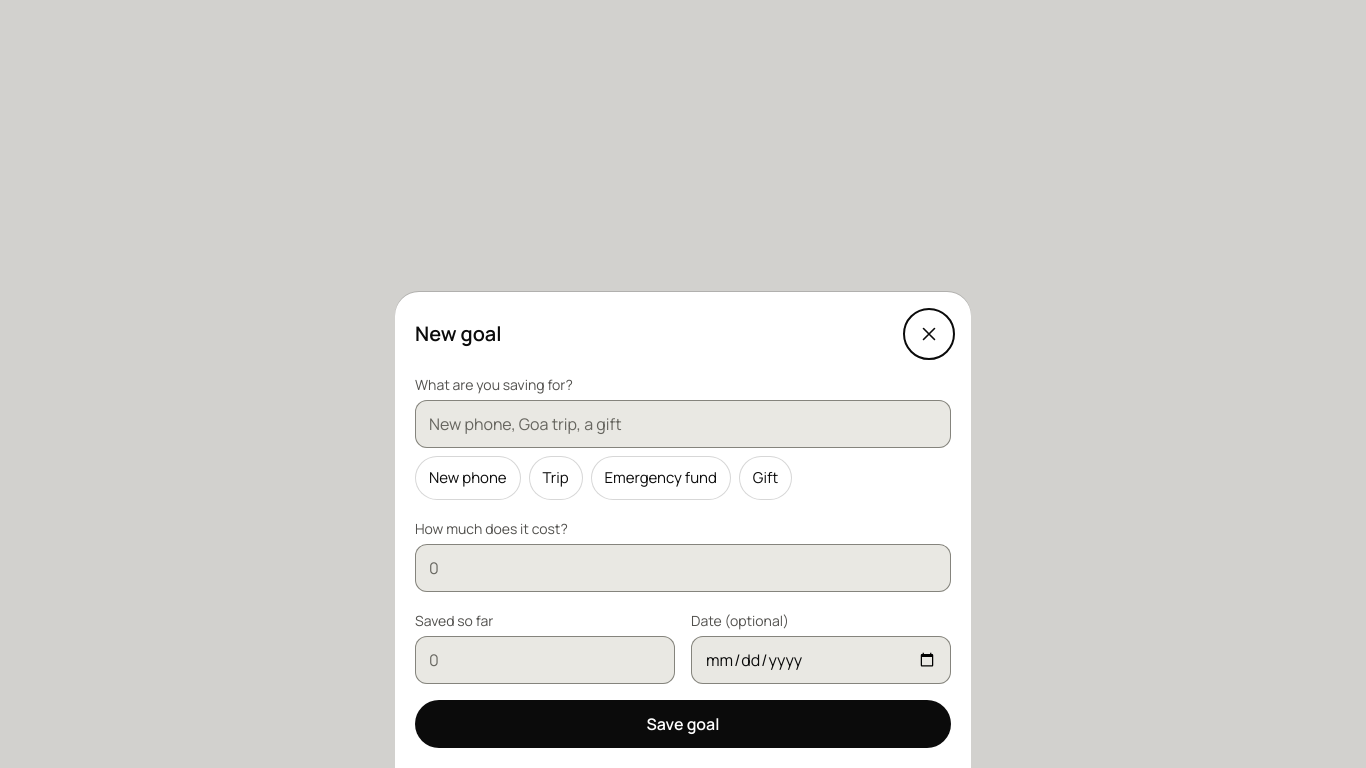
Test: GoalSheet: making a goal › refuses a cost that is not a number, says why, and saves nothing
Step 1. Type "Trip" into the field labelled "What are you saving for?" → point(683, 424), box [415, 400, 951, 448]
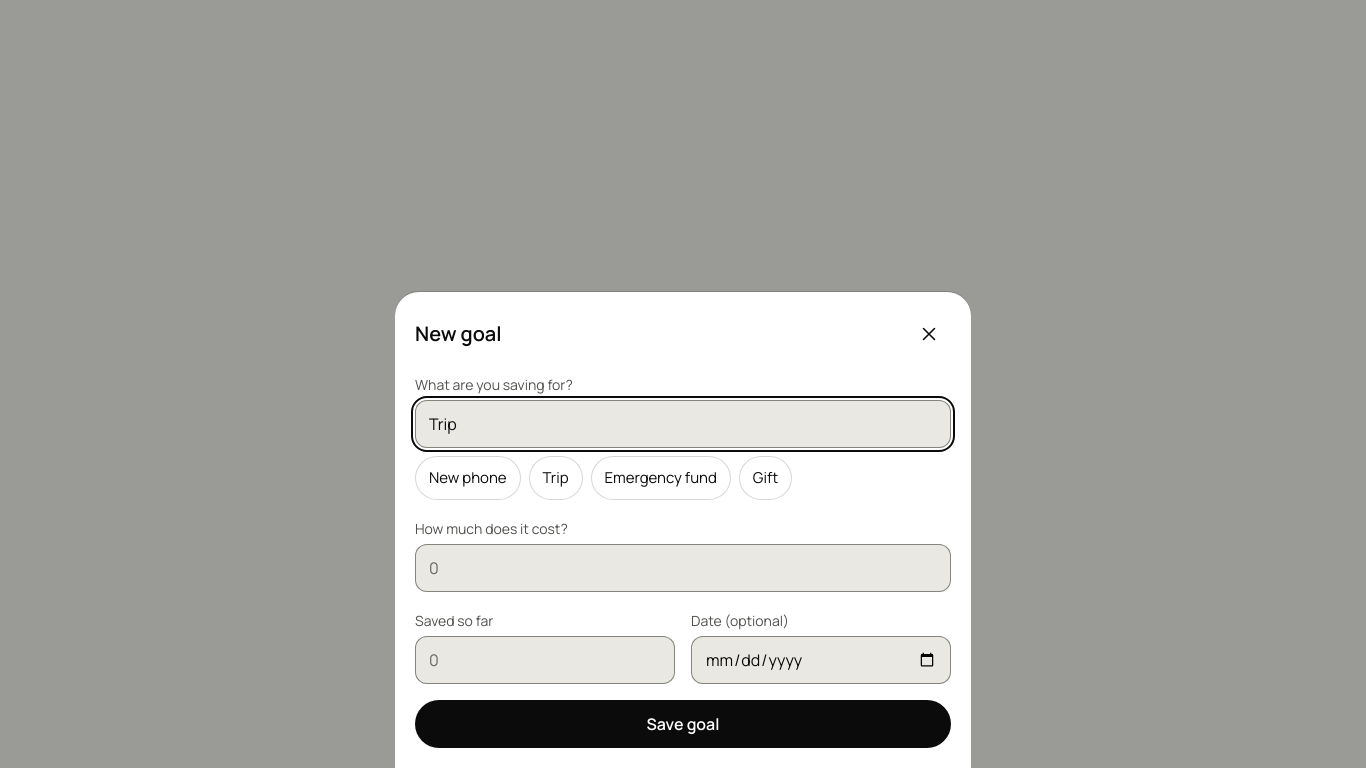
Step 2. Type "lots" into the field labelled "How much does it cost?" → point(683, 568), box [415, 544, 951, 592]
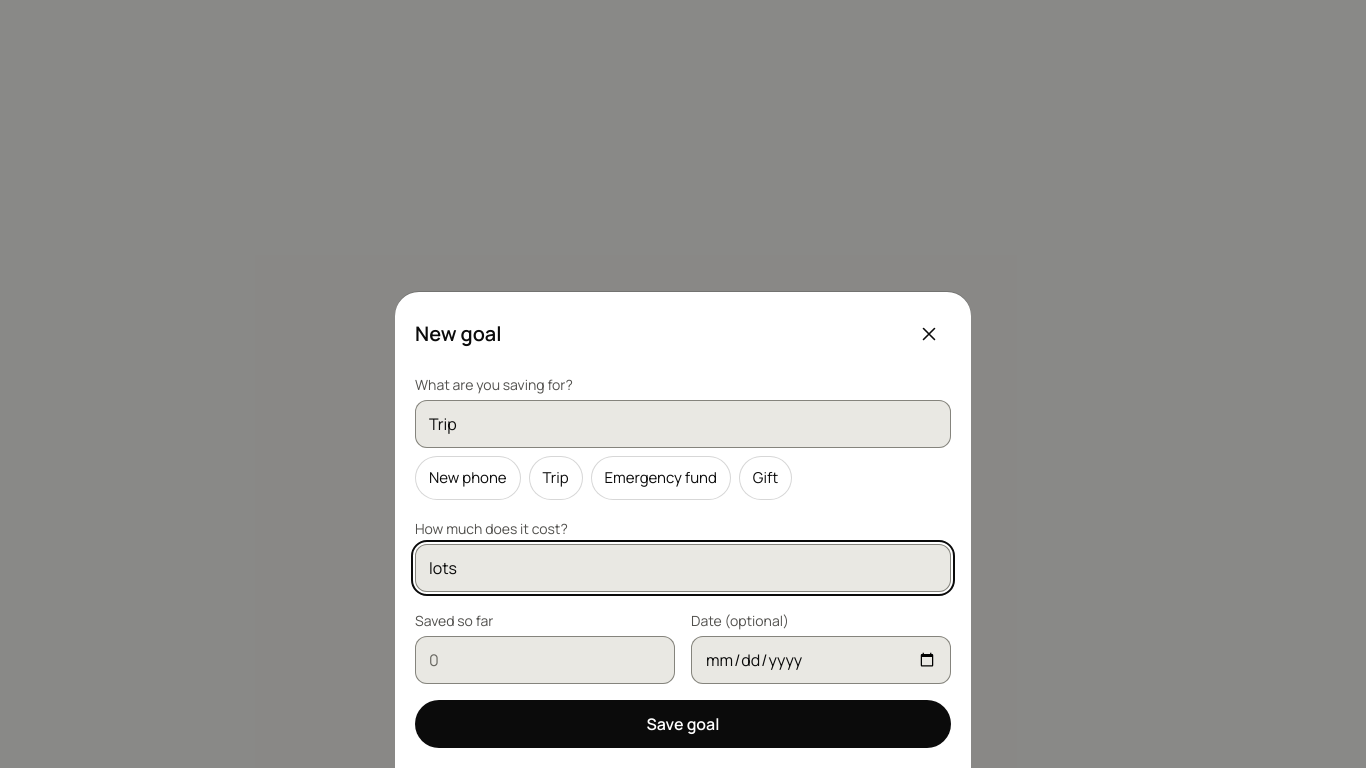
Step 3. Click the button "Save goal" → point(683, 724), box [415, 700, 951, 748]
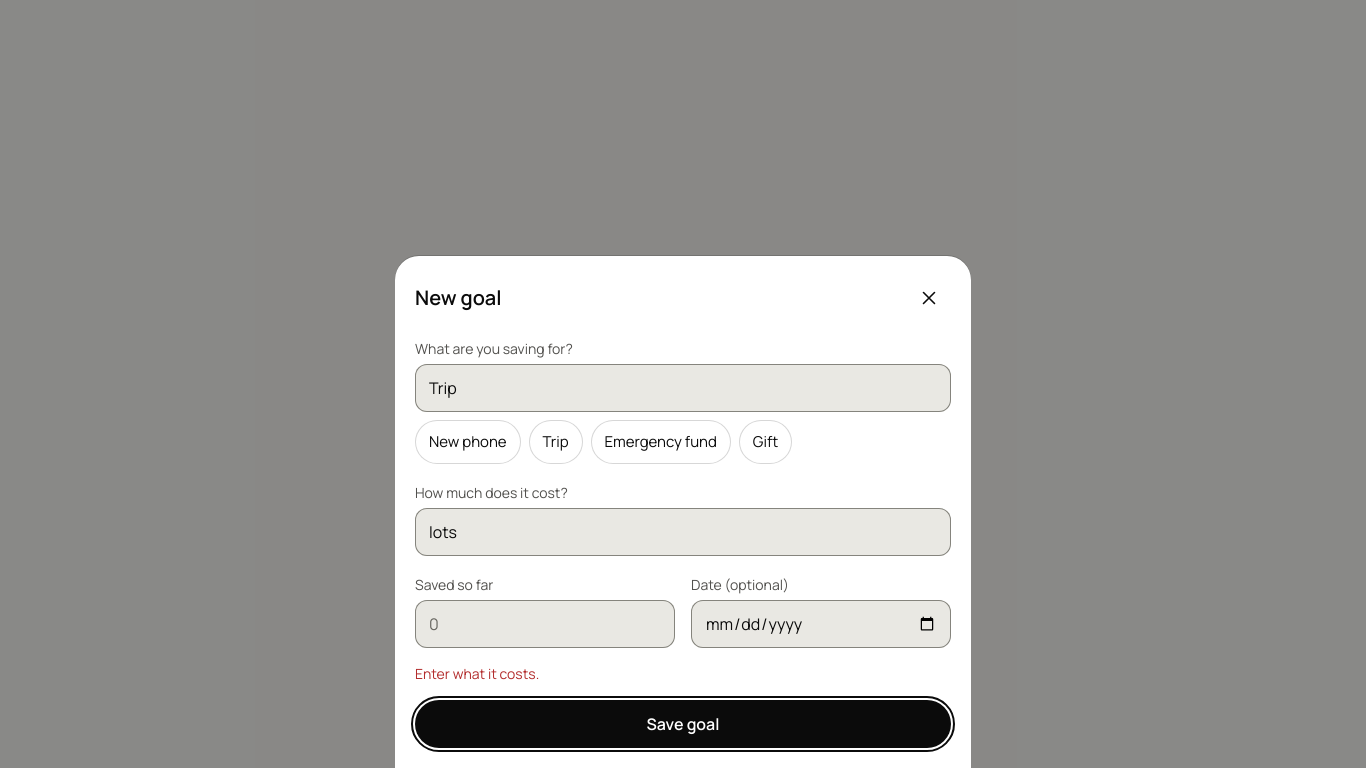
expect the message reads "Enter what it costs.": met, box [415, 664, 539, 683]
